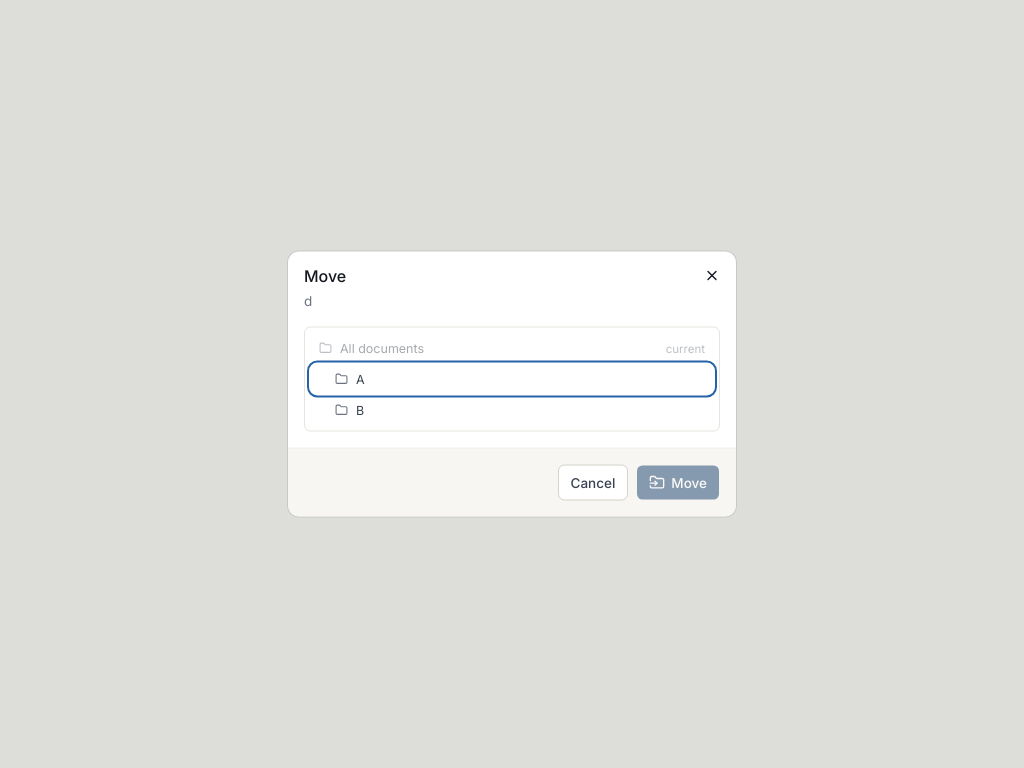
it: MoveToFolderDialog warning › a failing preview never blocks the move
What coordinates should you click on to do the following:
click the button "A"
I would click on:
 (342, 379)
Its box is [311,364,713,394].
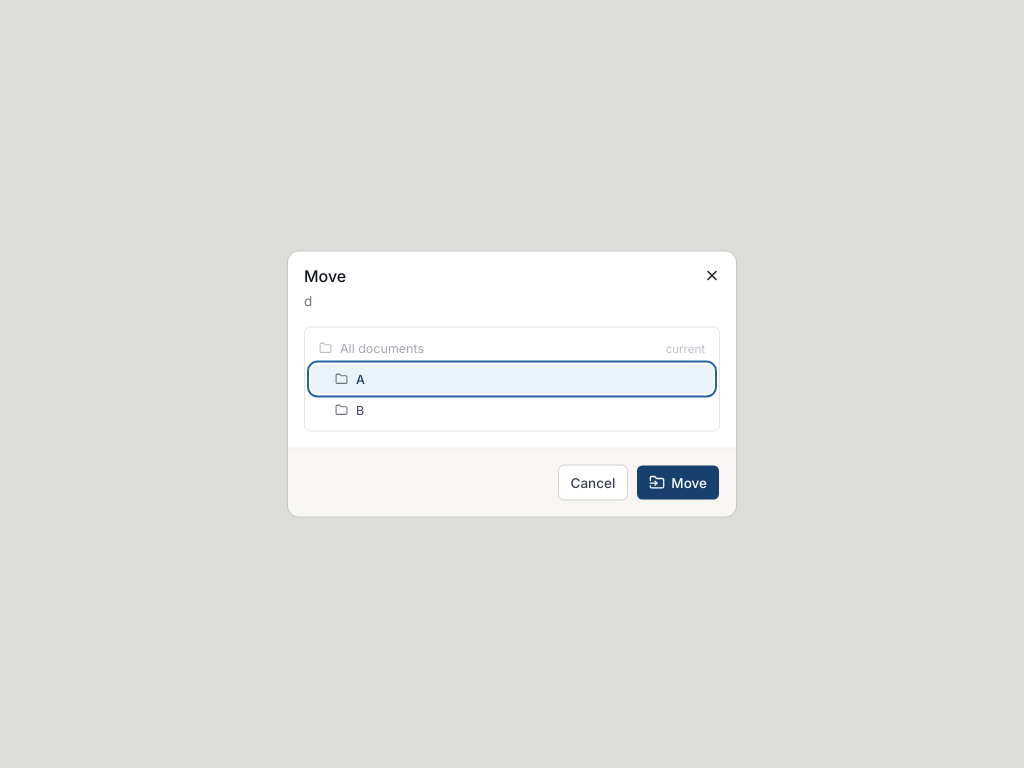
expect the button "Move" is enabled: met, box [636,464,720,500]
